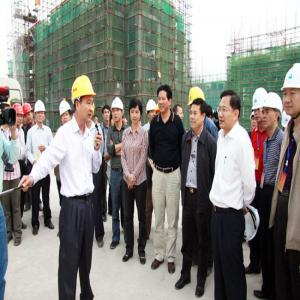none: (217, 91, 243, 130), (189, 99, 207, 129), (157, 85, 174, 115), (129, 98, 143, 125), (173, 104, 185, 122), (102, 105, 111, 124), (94, 115, 99, 124)
red: (12, 104, 24, 129), (23, 104, 35, 125)
white: (284, 65, 300, 123), (262, 92, 283, 130), (253, 87, 268, 125), (111, 98, 125, 124), (34, 98, 47, 125), (59, 101, 72, 124), (145, 99, 157, 123), (250, 111, 258, 130)
yellow: (71, 75, 96, 124), (188, 86, 206, 107)
